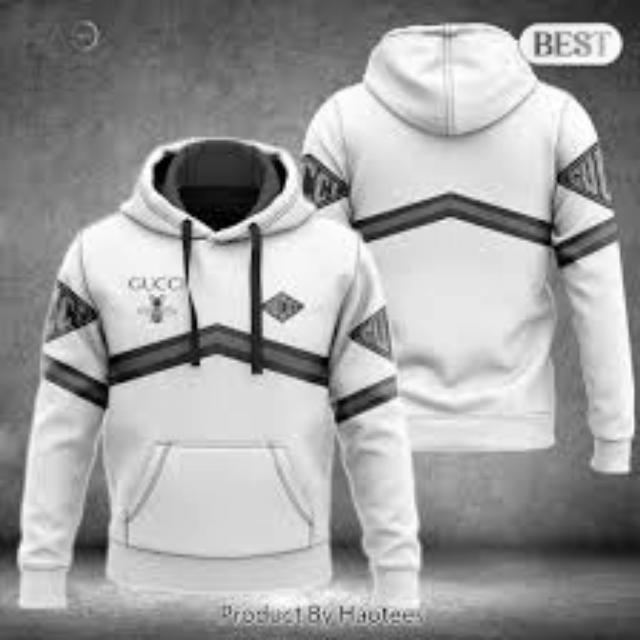Gucci: (121, 266, 187, 334)
